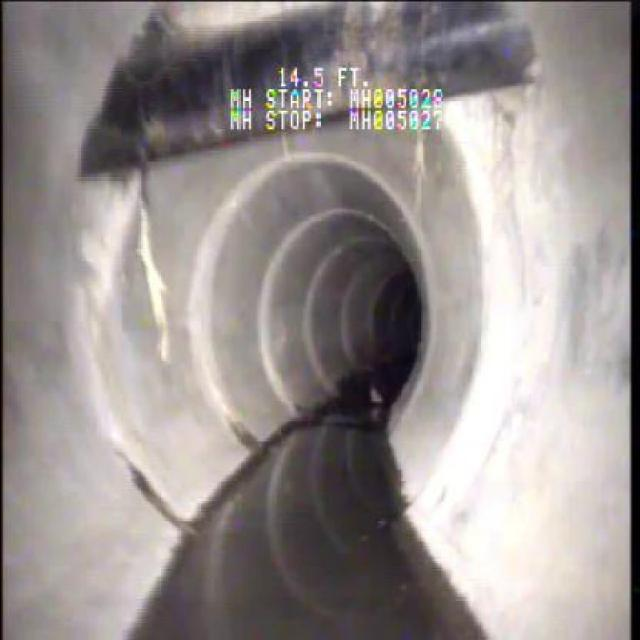Utility intrusion: (71, 5, 572, 183)
